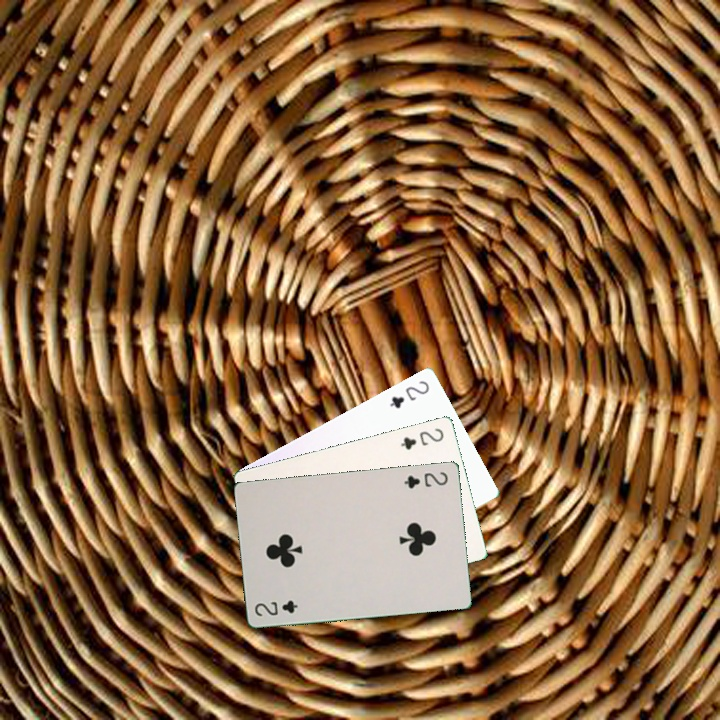2c: (385, 376, 432, 411), (396, 424, 446, 452), (400, 468, 450, 491), (251, 596, 300, 619)
